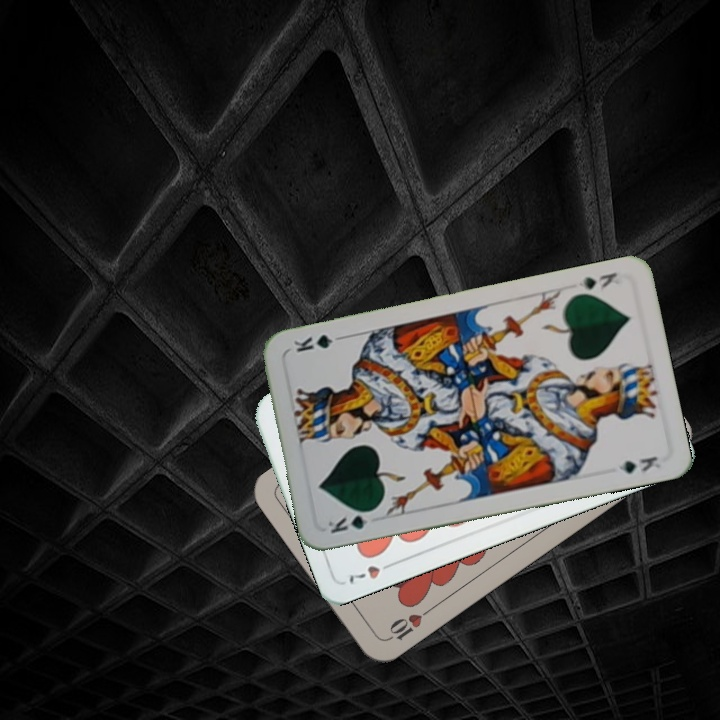GK: (324, 505, 379, 536), (574, 268, 620, 292)
H10: (382, 604, 434, 644)
H7: (345, 557, 399, 588)
